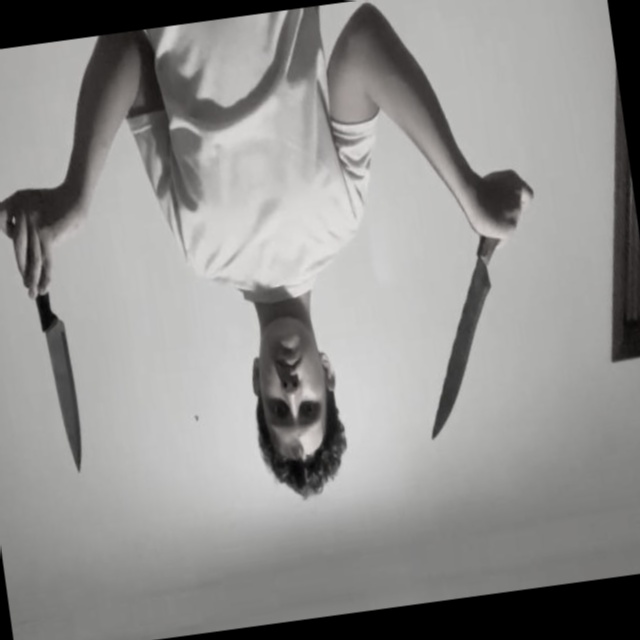Sharp-Object: (411, 267, 512, 439), (43, 323, 88, 476)
